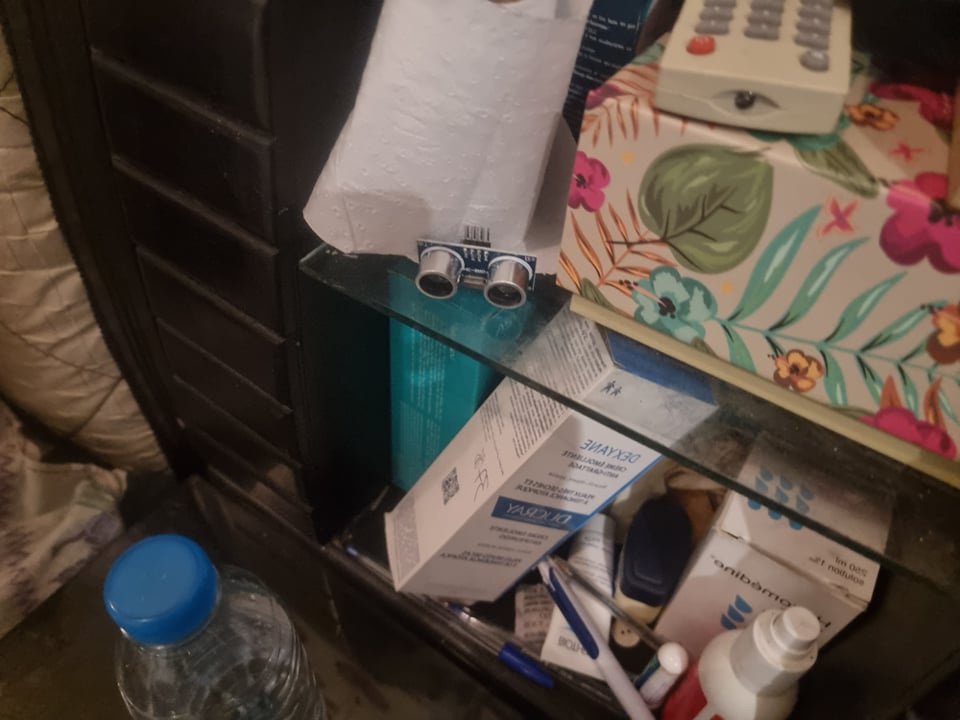SENSOR: (411, 245, 541, 314)
